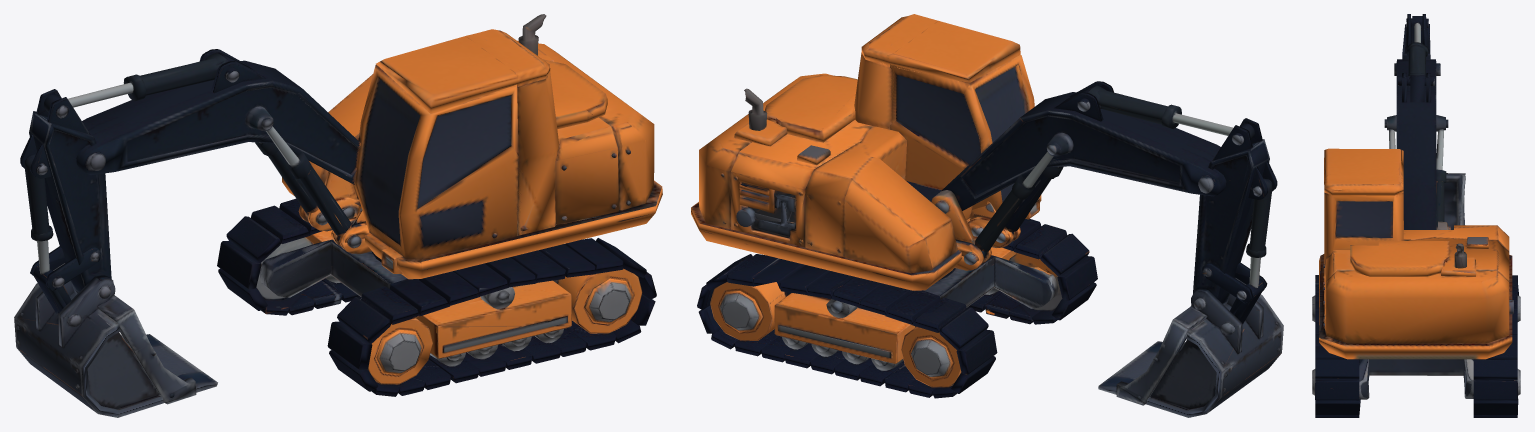
File: IroncladDigger.glb
3 views of the same model, side by side, from view 1: azimuth 30°, elevation 25°; view 2: azimuth 150°, elevation 25°; view 3: azimuth 270°, elevation 25° (orthographic). The views are drawn at different scales.
Bounding box in the file's own units: 0.9482 × 0.4902 × 0.4077.
Materials: 1 (1 with a texture image).
